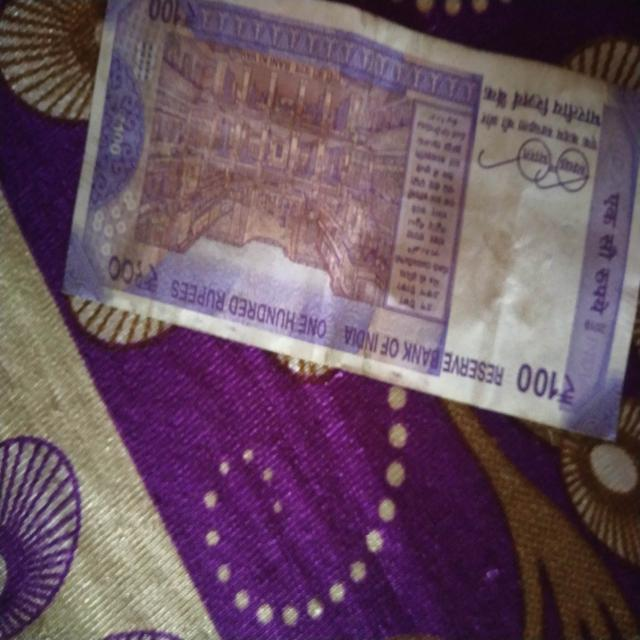100rs: (107, 0, 634, 425)
